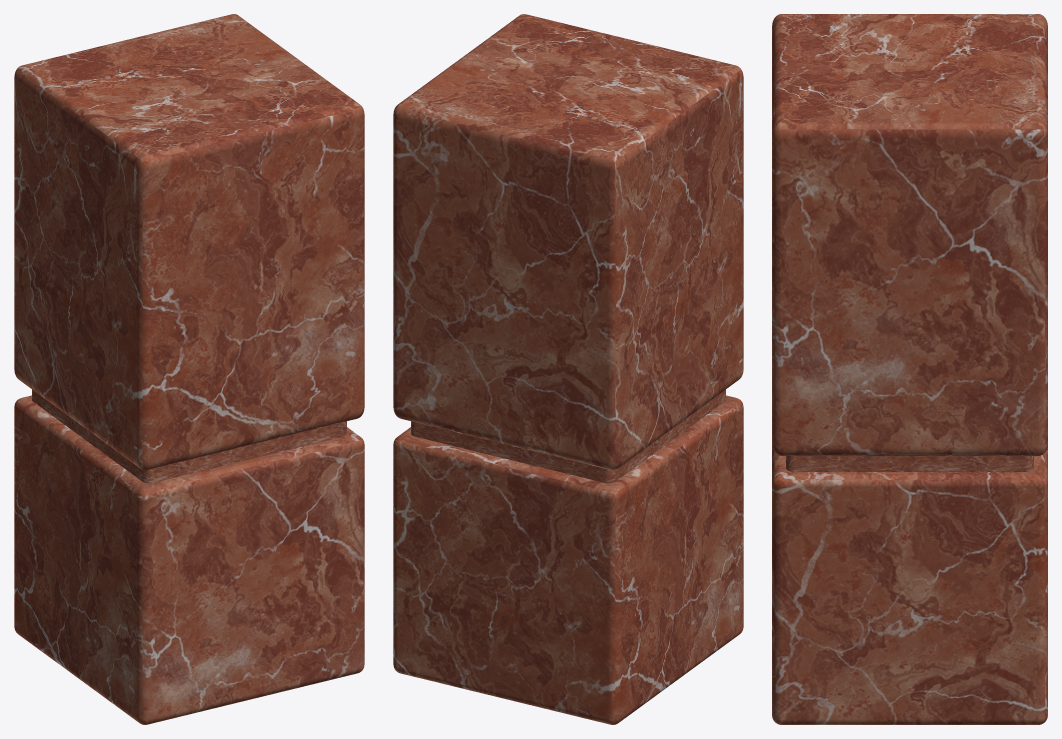
Rendered from tallDarkFlatSquare.glb.
The picture shows the model from 3 angles, left to right: view 1: azimuth 30°, elevation 25°; view 2: azimuth 150°, elevation 25°; view 3: azimuth 270°, elevation 25°; orthographic projection. The views are drawn at different scales.
Visible parts, largest first — view 1: tallDarkFlatSquare; view 2: tallDarkFlatSquare; view 3: tallDarkFlatSquare.
Boxes of the visible parts, x1=… form: tallDarkFlatSquare: x1=14, y1=14, x2=364, y2=724; tallDarkFlatSquare: x1=393, y1=14, x2=743, y2=724; tallDarkFlatSquare: x1=772, y1=14, x2=1047, y2=724.
Bounding box in the file's own units: 2 × 4.81 × 2.
Materials: 3 (3 with a texture image).
